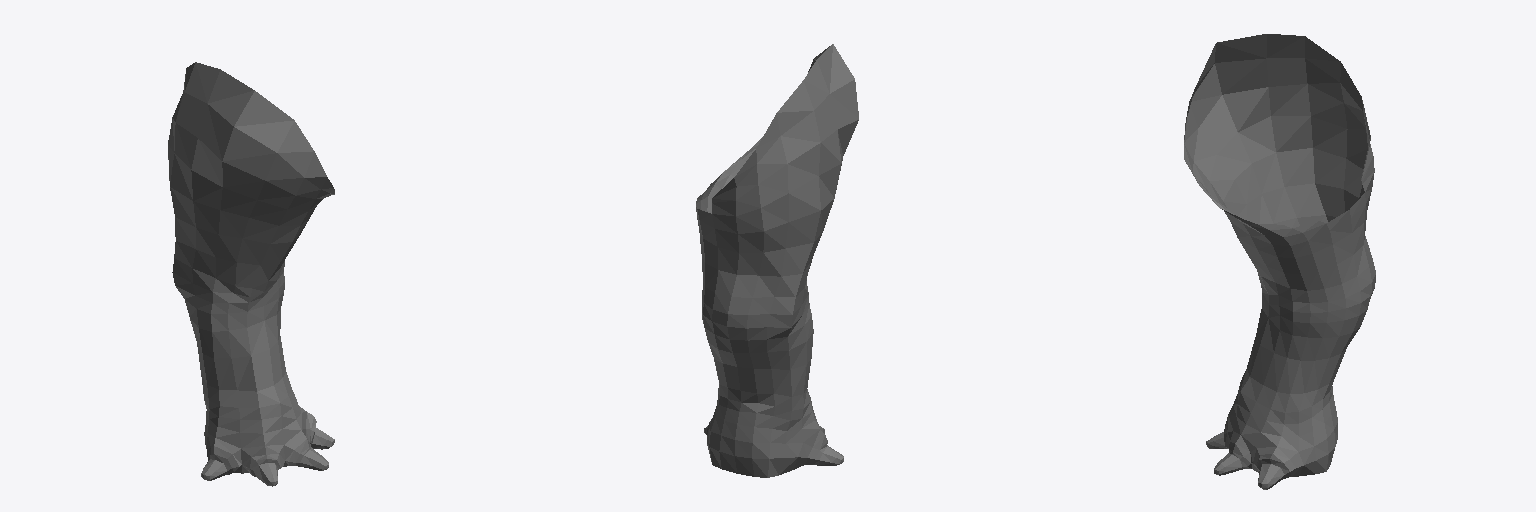
File: PataDelDer.obj
The picture shows the model from 3 angles: view 1: azimuth 30°, elevation 25°; view 2: azimuth 150°, elevation 25°; view 3: azimuth 270°, elevation 25°; orthographic projection.
Parts seen in each view (by area): view 1: PataDelDer; view 2: PataDelDer; view 3: PataDelDer.
Part boxes in pixels (bbox=[...]): PataDelDer: bbox=[168, 62, 334, 486]; PataDelDer: bbox=[696, 44, 858, 477]; PataDelDer: bbox=[1184, 34, 1375, 489].
Size of the model in its own units: 12.45 by 34.46 by 14.89.